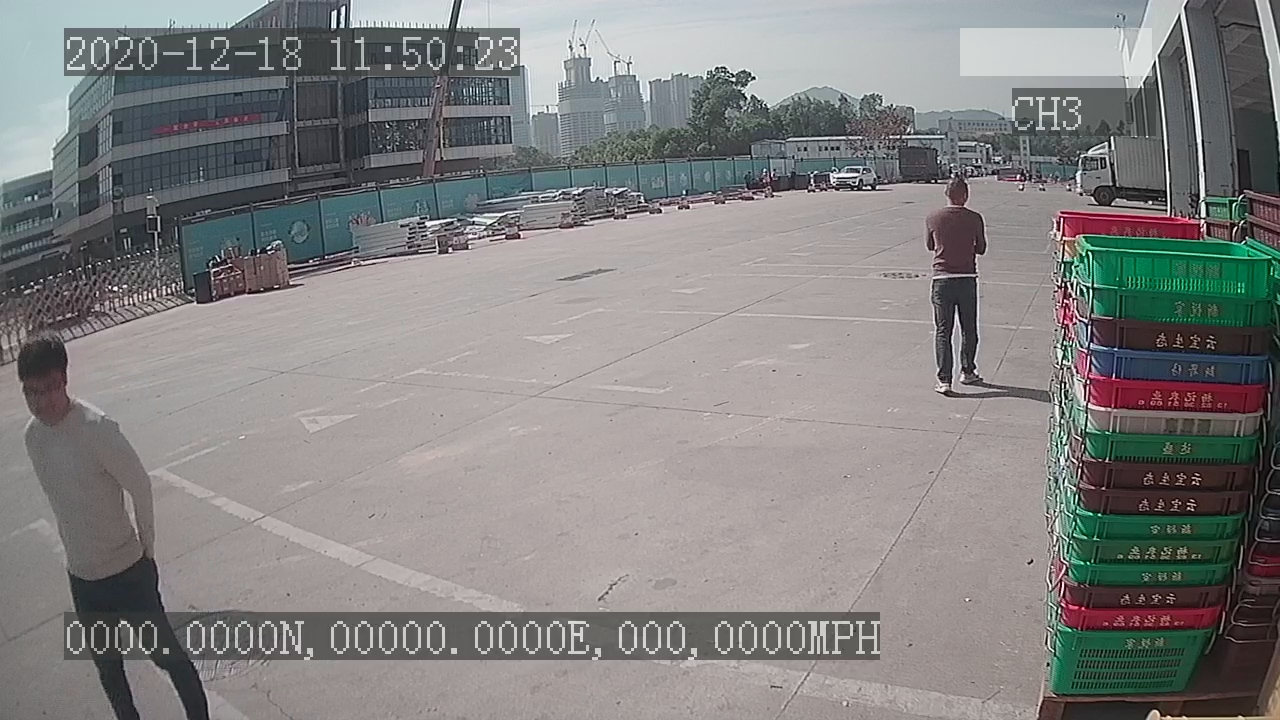person: (918, 174, 990, 404)
